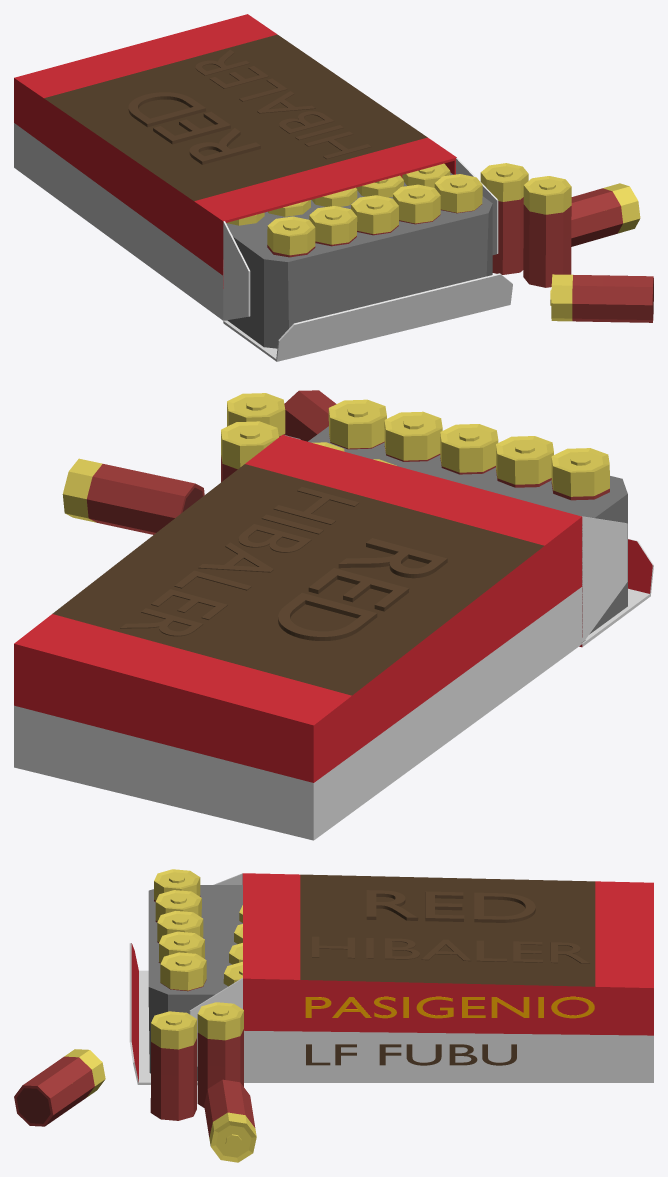
Rendered from ShotgunShells.fbx.
The picture shows the model from 3 angles, top to bottom: view 1: azimuth 30°, elevation 25°; view 2: azimuth 150°, elevation 25°; view 3: azimuth 270°, elevation 25°; orthographic projection. The views are drawn at different scales.
Parts seen in each view (by area): view 1: Text.003; view 2: Text.003; view 3: Text.003.
Boxes of the visible parts, x1=… form: Text.003: x1=14, y1=14, x2=653, y2=361; Text.003: x1=14, y1=390, x2=653, y2=840; Text.003: x1=14, y1=869, x2=653, y2=1162.
Bounding box in the file's own units: 70.81 × 19.05 × 98.38.
